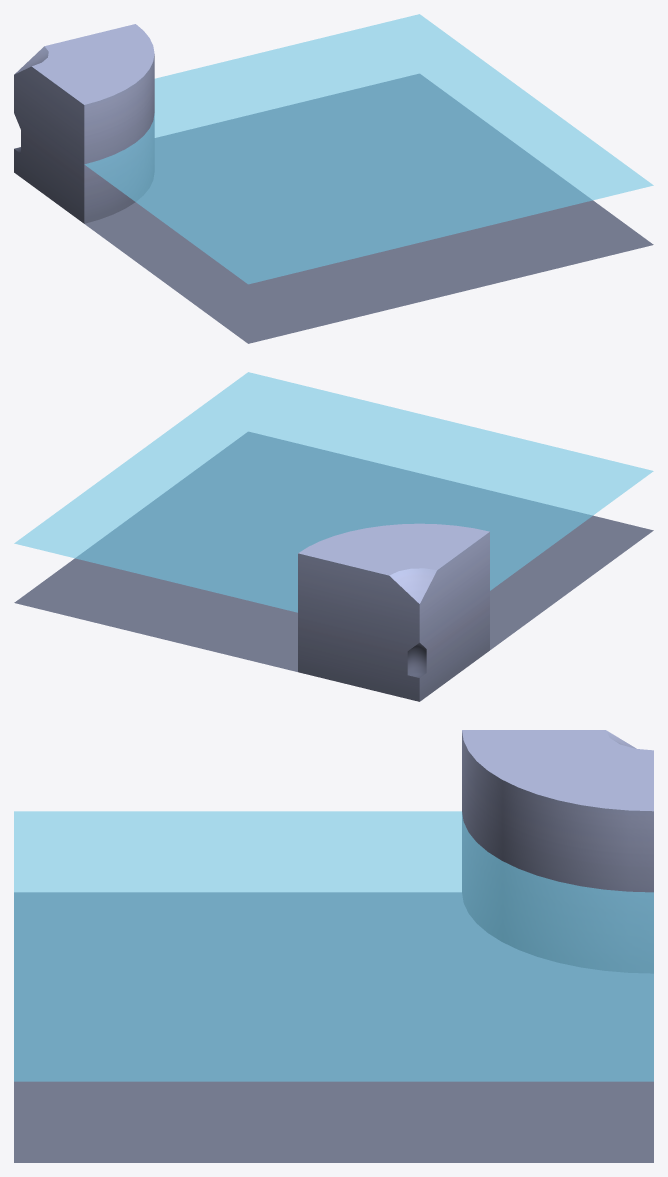
The model's file is kenney-fantasy-town-fountain-corner-inner.glb.
The picture shows the model from 3 angles, top to bottom: view 1: azimuth 30°, elevation 25°; view 2: azimuth 150°, elevation 25°; view 3: azimuth 270°, elevation 25°; orthographic projection. The views are drawn at different scales.
Visible parts, largest first — view 1: fountain-corner-inner, (%ignore); view 2: fountain-corner-inner, (%ignore); view 3: fountain-corner-inner, (%ignore).
Part boxes in pixels (x1=…): fountain-corner-inner: x1=14, y1=24, x2=653, y2=343; (%ignore): x1=84, y1=14, x2=653, y2=284; fountain-corner-inner: x1=14, y1=432, x2=653, y2=701; (%ignore): x1=14, y1=372, x2=653, y2=612; fountain-corner-inner: x1=14, y1=730, x2=653, y2=1162; (%ignore): x1=14, y1=811, x2=653, y2=1081.
Bounding box in the file's own units: 1 × 0.2799 × 1.
Materials: 2 (1 with a texture image).
